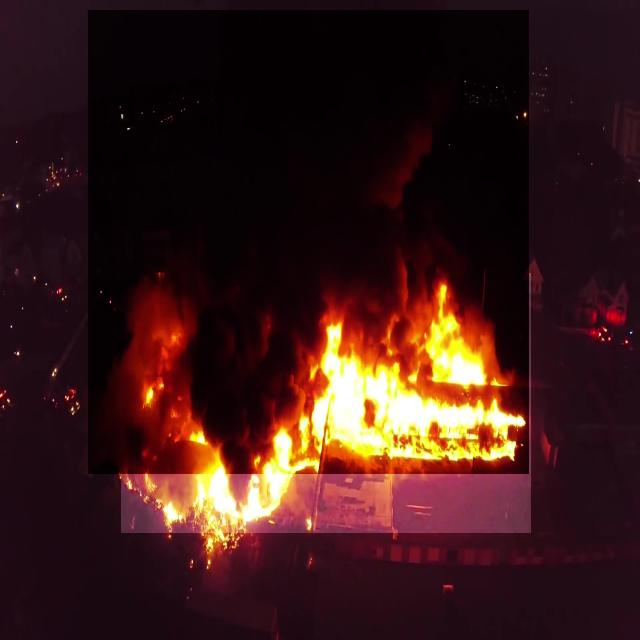Fire: (121, 273, 531, 533)
Smoke: (88, 10, 529, 474)
